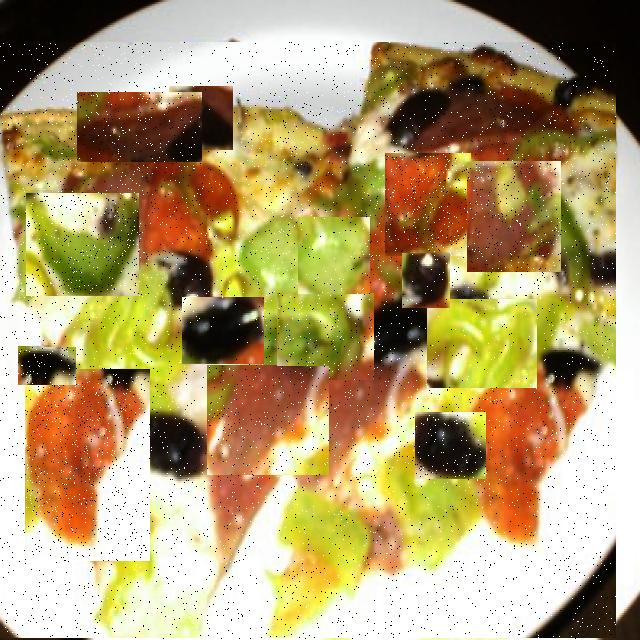Green Pepper: (26, 194, 139, 296), (427, 301, 537, 388), (44, 295, 158, 377), (277, 294, 374, 380), (298, 218, 370, 303), (249, 498, 335, 568)
Olives: (182, 298, 264, 364), (415, 413, 486, 479), (169, 88, 233, 152), (402, 253, 450, 308), (18, 347, 76, 385), (0, 249, 29, 285)
Pepperoni: (207, 366, 329, 475), (467, 162, 561, 272), (77, 93, 202, 162)
Pizza: (0, 42, 616, 639)
Tomato: (25, 369, 150, 561), (385, 154, 471, 256)
